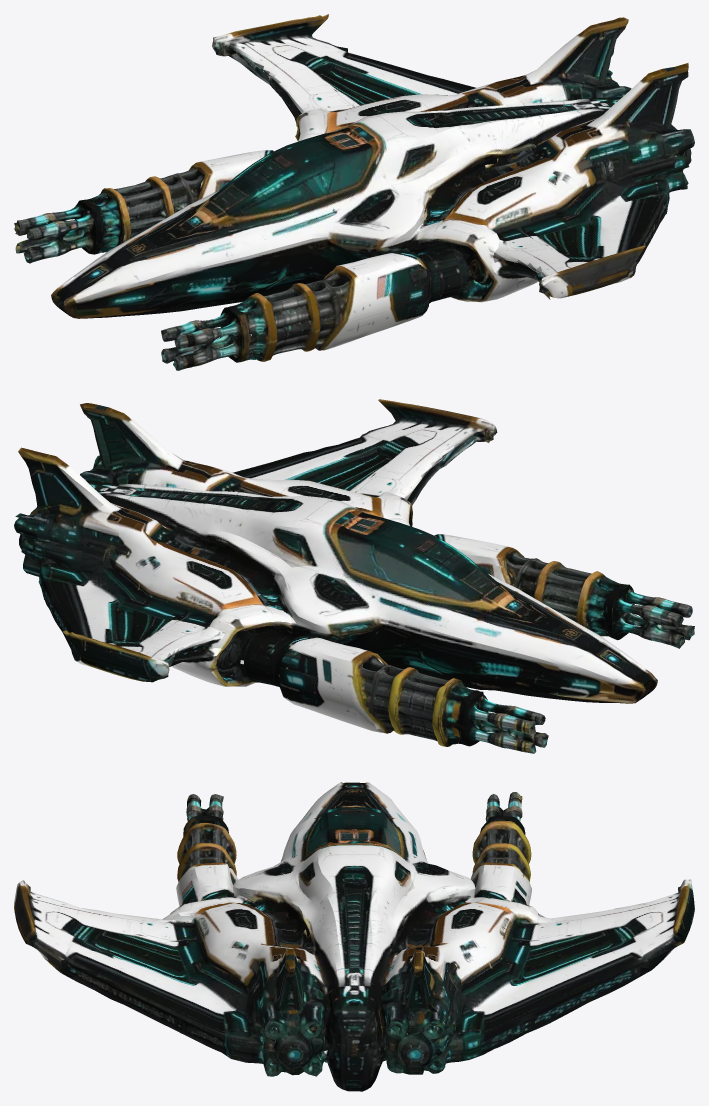
File: blaster.glb
3 renders of one model, top to bottom at view 1: azimuth 30°, elevation 25°; view 2: azimuth 150°, elevation 25°; view 3: azimuth 270°, elevation 25°, orthographic.
Parts seen in each view (by area): view 1: Mesh0; view 2: Mesh0; view 3: Mesh0.
Part boxes in pixels (x1=…): Mesh0: x1=14, y1=14, x2=694, y2=370; Mesh0: x1=14, y1=399, x2=694, y2=753; Mesh0: x1=14, y1=782, x2=694, y2=1091.
Bounding box in the file's own units: 1.91 × 0.4791 × 1.84.
Materials: 1 (1 with a texture image).
